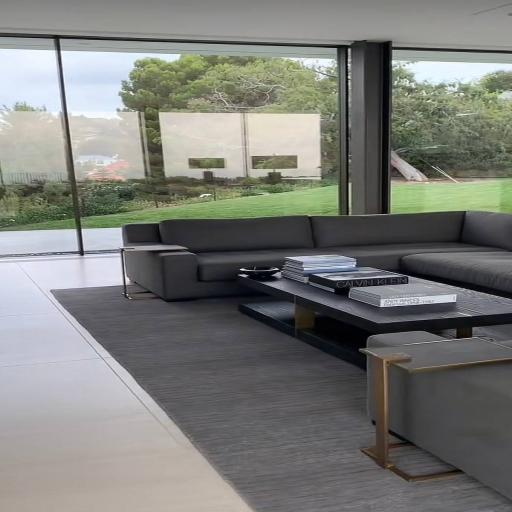hole: (122, 210, 512, 300), (367, 331, 512, 510)
phone: (238, 274, 512, 366)
